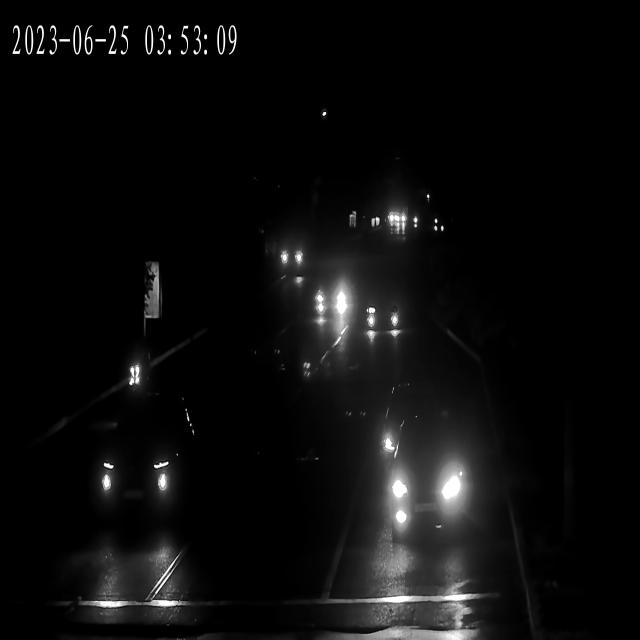Car: (93, 410, 196, 518), (382, 435, 474, 534), (368, 396, 435, 470), (310, 271, 354, 321), (364, 289, 406, 333), (277, 241, 305, 270), (386, 213, 404, 226), (384, 212, 401, 225), (390, 218, 406, 231), (406, 215, 421, 228), (429, 220, 444, 232)
